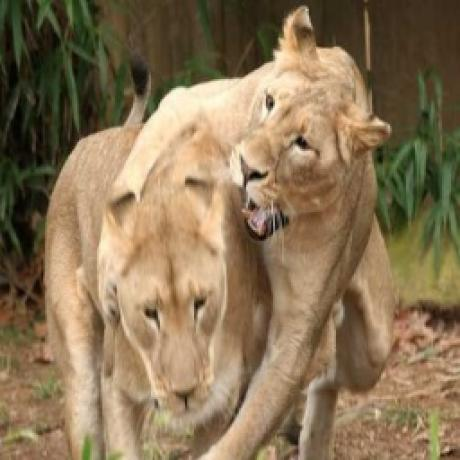Lion: (109, 3, 393, 460), (41, 120, 249, 460)
